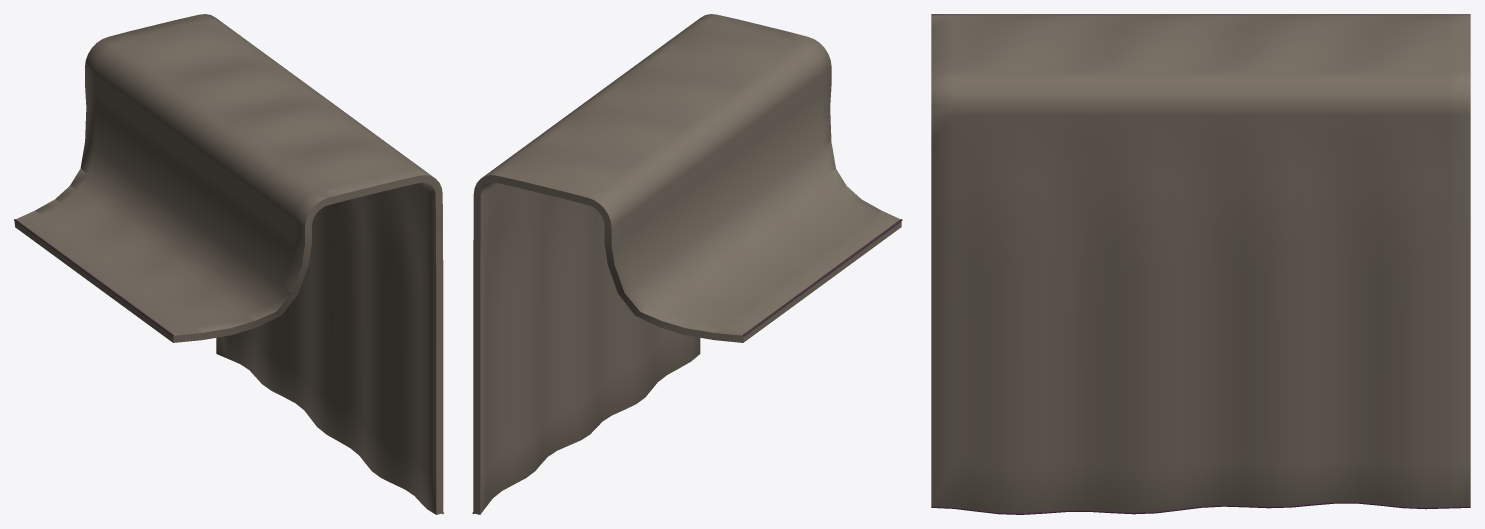
The model's file is main-sofa-throw-4f5540d813af.glb.
3 views of the same model, side by side, from view 1: azimuth 30°, elevation 25°; view 2: azimuth 150°, elevation 25°; view 3: azimuth 270°, elevation 25° (orthographic). The views are drawn at different scales.
Parts seen in each view (by area): view 1: cover-cloth, cloth-plum; view 2: cover-cloth, cloth-plum; view 3: cover-cloth, cloth-plum.
Boxes of the visible parts, x1,y1,x2,y2 form: cover-cloth: (14,14,443,514); cloth-plum: (14,219,443,513); cover-cloth: (473,14,901,514); cloth-plum: (472,219,902,513); cover-cloth: (931,14,1470,512); cloth-plum: (931,501,1470,514).
Bounding box in the file's own units: 0.2977 × 0.407 × 0.4603.
